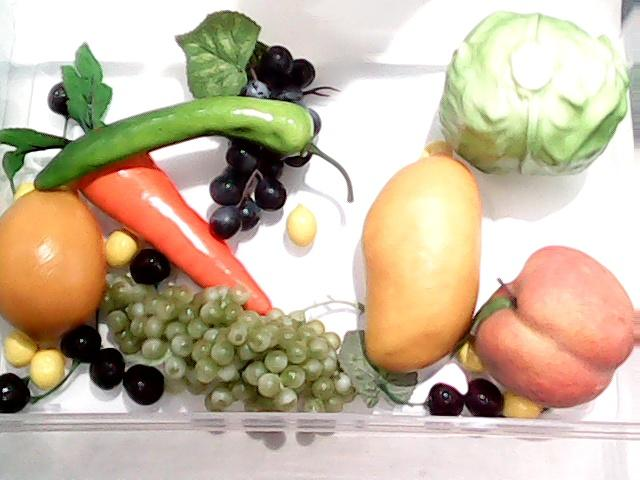cabbage: (437, 4, 635, 182)
carrot: (1, 42, 276, 320)
grape: (86, 284, 358, 412), (178, 8, 326, 241)
lemon: (2, 183, 118, 344)
mango: (358, 158, 482, 374)
peach: (474, 246, 640, 410)
pepper: (29, 88, 359, 204)
